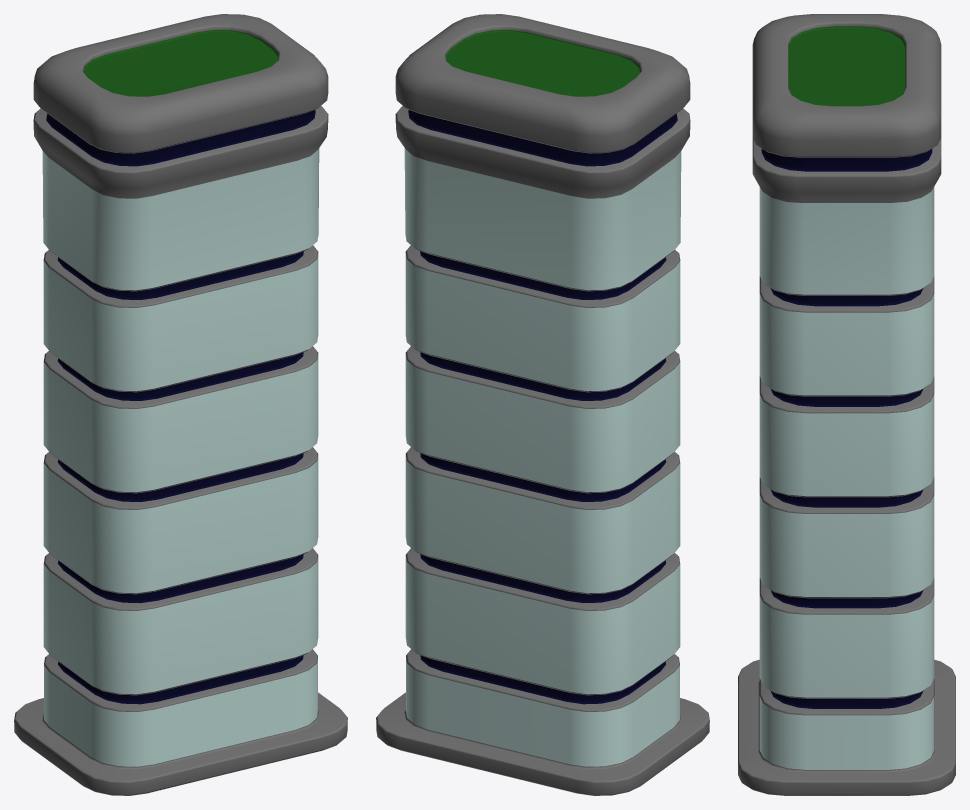
File: SM_Building_03.fbx
The picture shows the model from 3 angles, left to right: view 1: azimuth 30°, elevation 25°; view 2: azimuth 150°, elevation 25°; view 3: azimuth 270°, elevation 25°; orthographic projection.
Visible parts, largest first — view 1: SM_Building_03_new; view 2: SM_Building_03_new; view 3: SM_Building_03_new.
Boxes of the visible parts, x1,y1,x2,y2 form: SM_Building_03_new: (14,14,347,795); SM_Building_03_new: (376,14,709,795); SM_Building_03_new: (738,14,955,795).
Bounding box in the file's own units: 5055 × 12520 × 3693.
